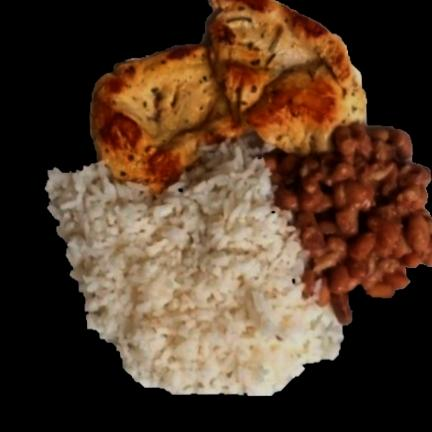beans: (264, 124, 432, 325)
chicken: (91, 0, 365, 191)
rice: (51, 140, 341, 398)
